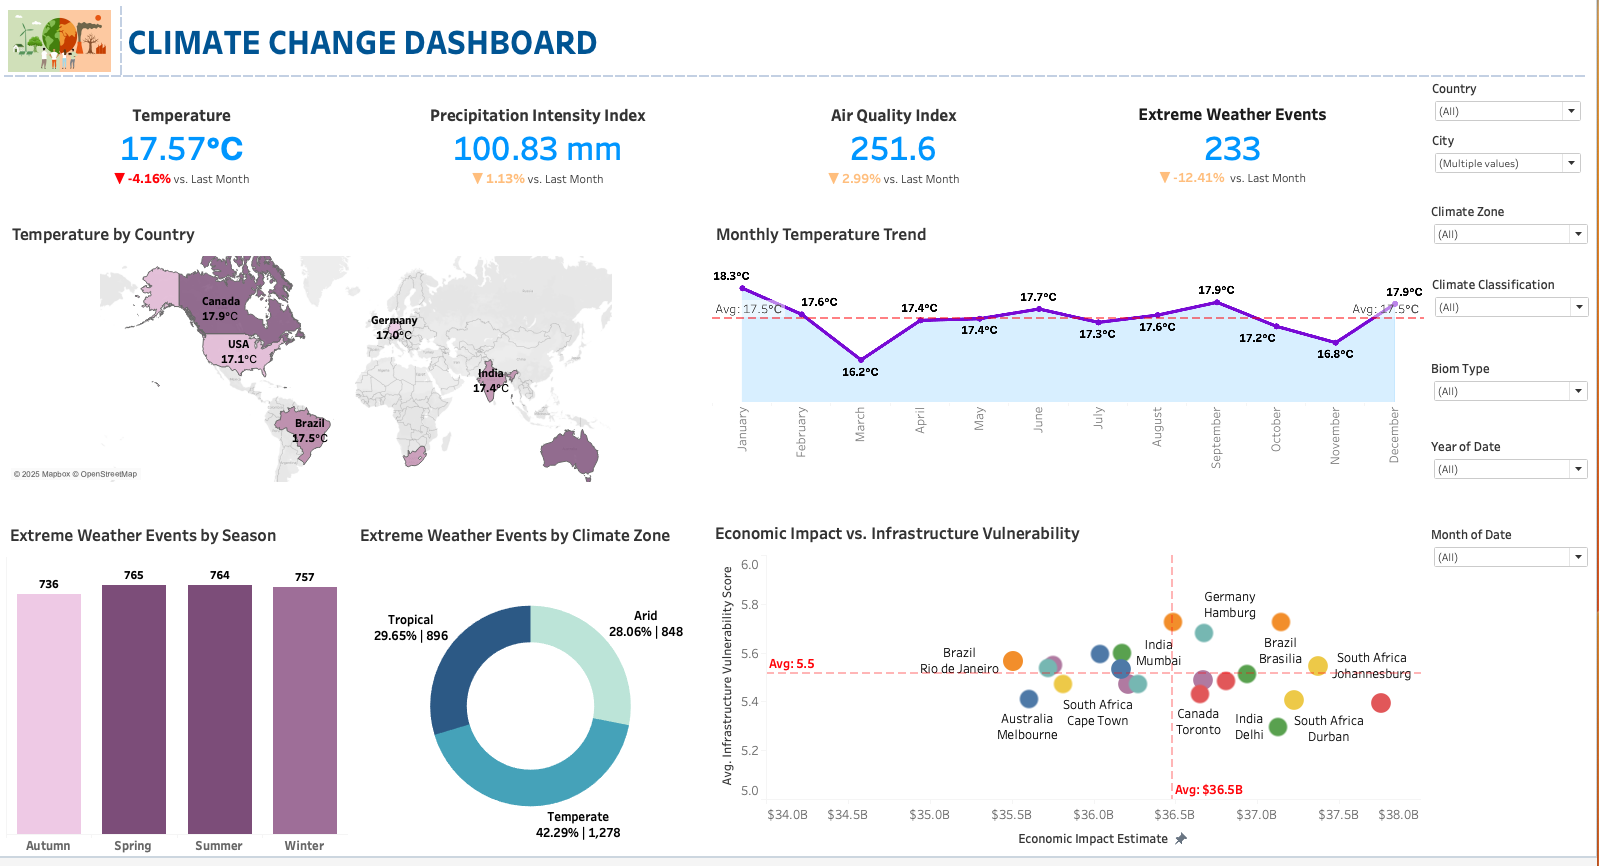

Layout of this report page (visuals, bound fields, positions):
{"tool":"tableau","page":{"name":"Dashboard 1","canvas":[1000,1000],"units":"permille","ordinal":0},"visuals":[{"type":"image","param":"/Users/jillpatel/Downloads/climate-change-and-education-1000x600-1.jpg","box":[5,9.3,73.1,81.4]},{"type":"text","box":[78.1,9.3,916.9,81.4]},{"type":"worksheet","title":"EWE (2)","mark":"Automatic","box":[660,83.8,225.6,193.8]},{"type":"worksheet","title":"Temp.","mark":"Automatic","box":[5,90.7,222.5,161.6]},{"type":"worksheet","title":"Precip. Intensity","mark":"Automatic","box":[227.5,90.7,222.5,161.6]},{"type":"worksheet","title":"AQI Index","mark":"Automatic","box":[450,90.7,222.5,161.6]},{"type":"worksheet","title":"EWE","mark":"Automatic","box":[672.5,90.7,222.5,161.6]},{"type":"filter","title":"Scatter","param":"[federated.1t5hocs0h66h311e85owt1907afy].[none:Country:nk]","box":[895,90.7,100,60.5]},{"type":"filter","title":"Scatter","param":"[federated.1t5hocs0h66h311e85owt1907afy].[none:City:nk]","box":[895,151.1,100,60.5]},{"type":"filter","title":"Scatter","param":"[federated.1t5hocs0h66h311e85owt1907afy].[none:Climate_Zone:nk]","box":[896.9,238.8,100,125]},{"type":"worksheet","title":"Temp Map","mark":"Automatic","box":[5,252.3,440,315.1]},{"type":"worksheet","title":"Line Chart","mark":"Area","rows":["Calculation_6276399445946499084","Calculation_6276399445946499084"],"cols":["Date"],"box":[445,252.3,450,315.1]},{"type":"filter","title":"Scatter","param":"[federated.1t5hocs0h66h311e85owt1907afy].[none:Climate Classification:nk]","box":[897.5,323.8,100,86.2]},{"type":"filter","title":"Scatter","param":"[federated.1t5hocs0h66h311e85owt1907afy].[none:Biom_Type:nk]","box":[896.9,421.2,100,97.5]},{"type":"filter","title":"Scatter","param":"[federated.1t5hocs0h66h311e85owt1907afy].[yr:Date:ok]","box":[896.9,511.2,100,101.2]},{"type":"worksheet","title":"Scatter","mark":"Circle","rows":["Infrastructure_Vulnerability_Score"],"cols":["Economic_Impact_Estimate"],"box":[446.9,605,443.8,391.2]},{"type":"worksheet","title":"Extreme Weather Event","mark":"Automatic","rows":["Calculation_6158883642972811264"],"cols":["Season"],"box":[6.2,607.5,213.8,390]},{"type":"worksheet","title":"Pie","mark":"Pie","rows":["Calculation_279715805995175941","Calculation_279715805995290631"],"box":[225,607.5,218.1,392.5]},{"type":"filter","title":"Scatter","param":"[federated.1t5hocs0h66h311e85owt1907afy].[mn:Date:ok]","box":[896.9,613.8,100,116.2]}]}

Visuals, with their boxes on the dashboard's canvas, which has no fixed pixel size, in thousandths of its width and height (x1, y1, x2, y2). These are canvas units, not pixel positions in the 1599x866 screenshot, which may show the page scaled, cropped or inside an application window:
image: x1=5 y1=9 x2=78 y2=91
text: x1=78 y1=9 x2=995 y2=91
"EWE (2)" worksheet: x1=660 y1=84 x2=886 y2=278
"Temp." worksheet: x1=5 y1=91 x2=228 y2=252
"Precip. Intensity" worksheet: x1=228 y1=91 x2=450 y2=252
"AQI Index" worksheet: x1=450 y1=91 x2=672 y2=252
"EWE" worksheet: x1=672 y1=91 x2=895 y2=252
"Scatter" filter: x1=895 y1=91 x2=995 y2=151
"Scatter" filter: x1=895 y1=151 x2=995 y2=212
"Scatter" filter: x1=897 y1=239 x2=997 y2=364
"Temp Map" worksheet: x1=5 y1=252 x2=445 y2=567
"Line Chart" worksheet (Area marks): x1=445 y1=252 x2=895 y2=567
"Scatter" filter: x1=898 y1=324 x2=998 y2=410
"Scatter" filter: x1=897 y1=421 x2=997 y2=519
"Scatter" filter: x1=897 y1=511 x2=997 y2=612
"Scatter" worksheet (Circle marks): x1=447 y1=605 x2=891 y2=996
"Extreme Weather Event" worksheet: x1=6 y1=608 x2=220 y2=998
"Pie" worksheet (Pie marks): x1=225 y1=608 x2=443 y2=1000
"Scatter" filter: x1=897 y1=614 x2=997 y2=730
